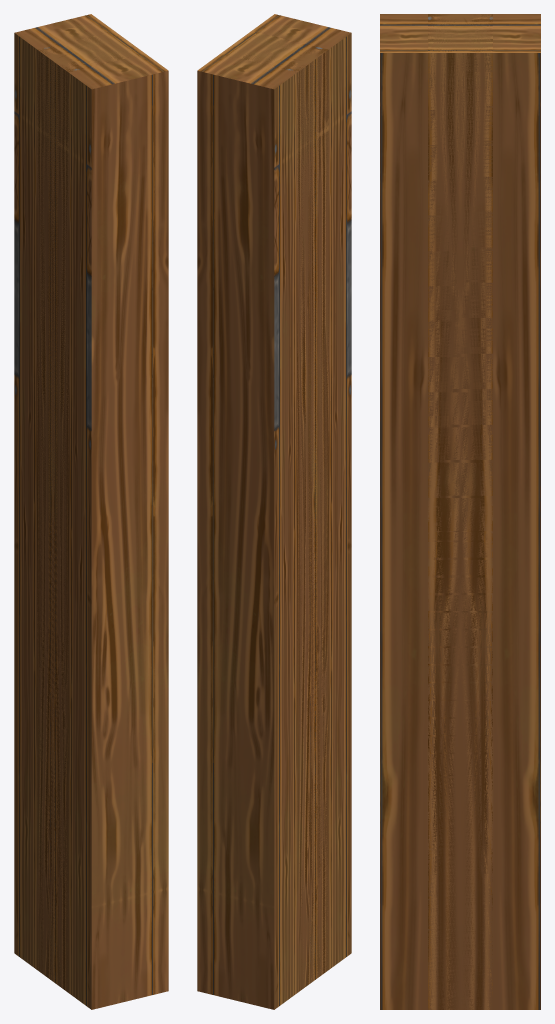
The picture shows the model from 3 angles, left to right: view 1: azimuth 30°, elevation 25°; view 2: azimuth 150°, elevation 25°; view 3: azimuth 270°, elevation 25°; orthographic projection. The views are drawn at different scales.
Parts seen in each view (by area): view 1: Cube.160; view 2: Cube.160; view 3: Cube.160.
Part boxes in pixels (bbox=[...]): Cube.160: bbox=[14, 14, 168, 1009]; Cube.160: bbox=[197, 14, 351, 1009]; Cube.160: bbox=[380, 14, 540, 1009].
Size of the model in its own units: 25.96 by 297 by 45.19.
Materials: 1 (1 with a texture image).
